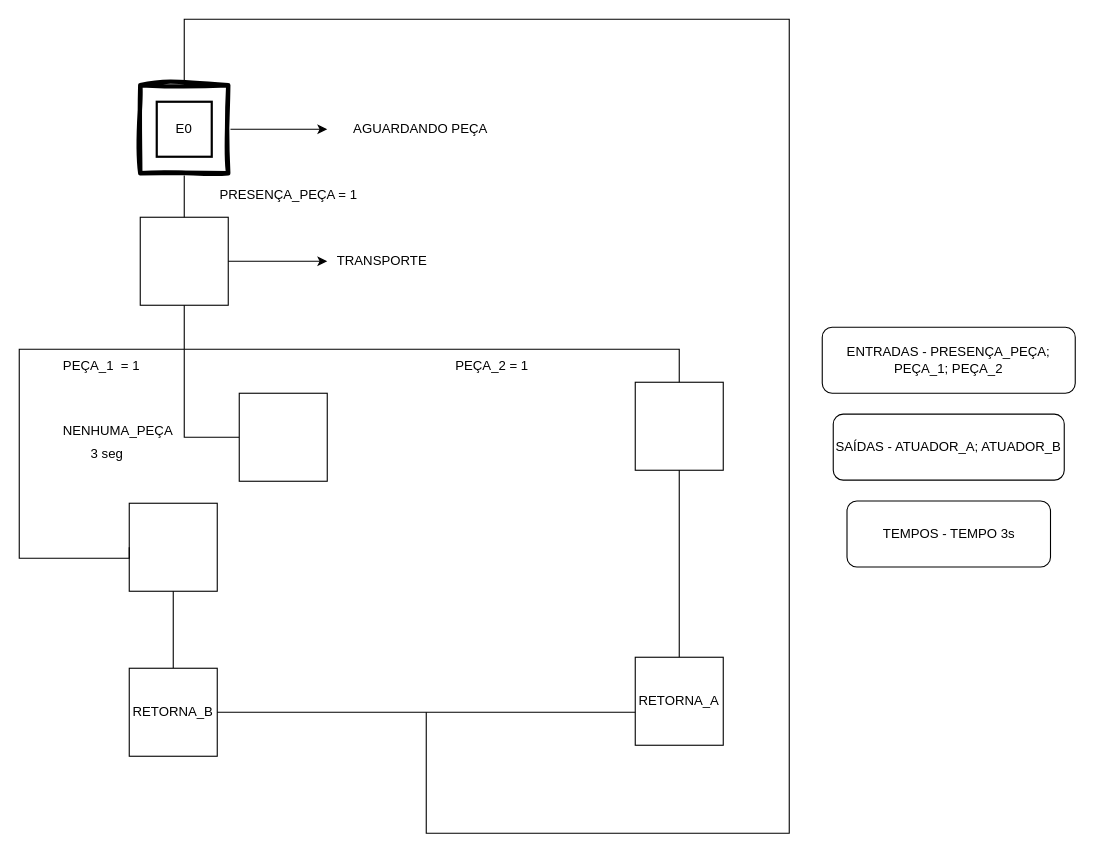
This 1095x854 diagram has some shape labels left out. The shapes that lost their labels are listed below. From the top down, each one's centre as x and y in pixels, then its label:
At point (183, 260): "E1".
At point (282, 436): "ALARME".
At point (678, 425): "ATUADOR_A".
At point (172, 546): "ATUADOR_B".
